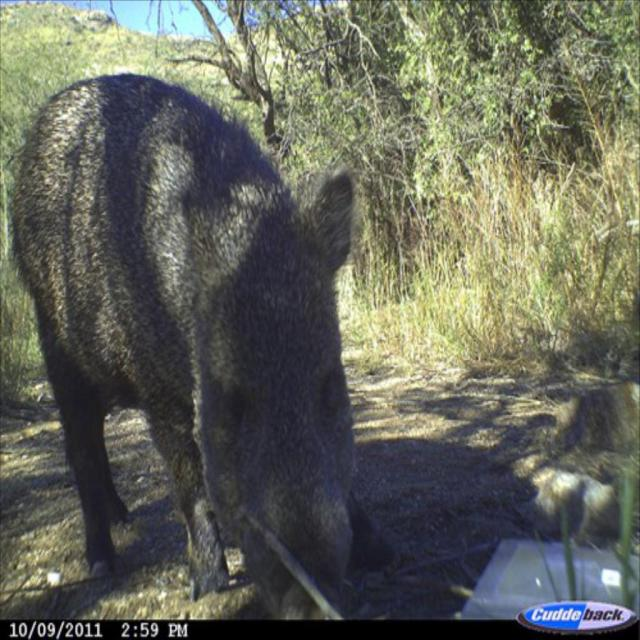Pig: (9, 72, 397, 619)
